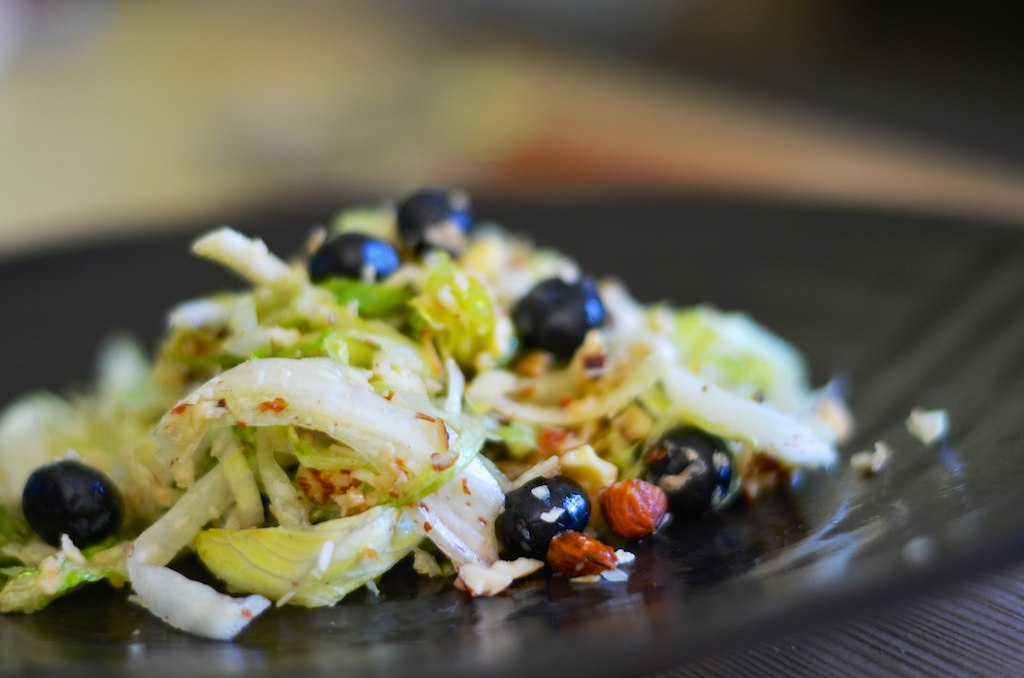chopped lettuce: (198, 295, 498, 572)
